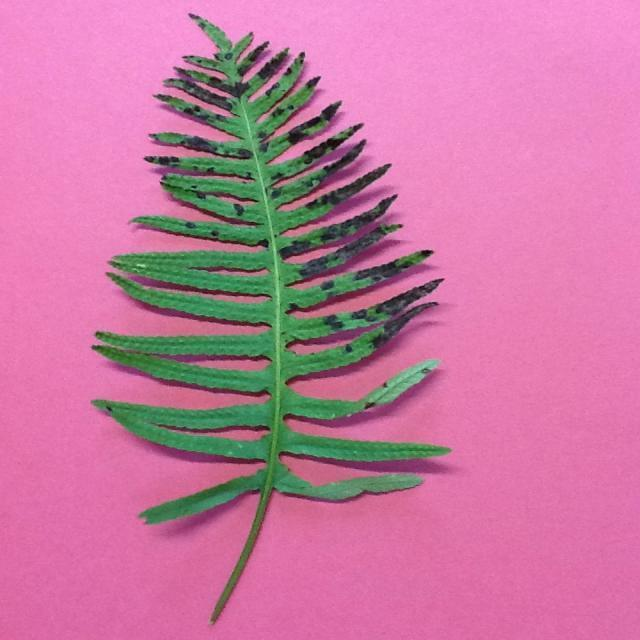foliage: (90, 11, 450, 624)
